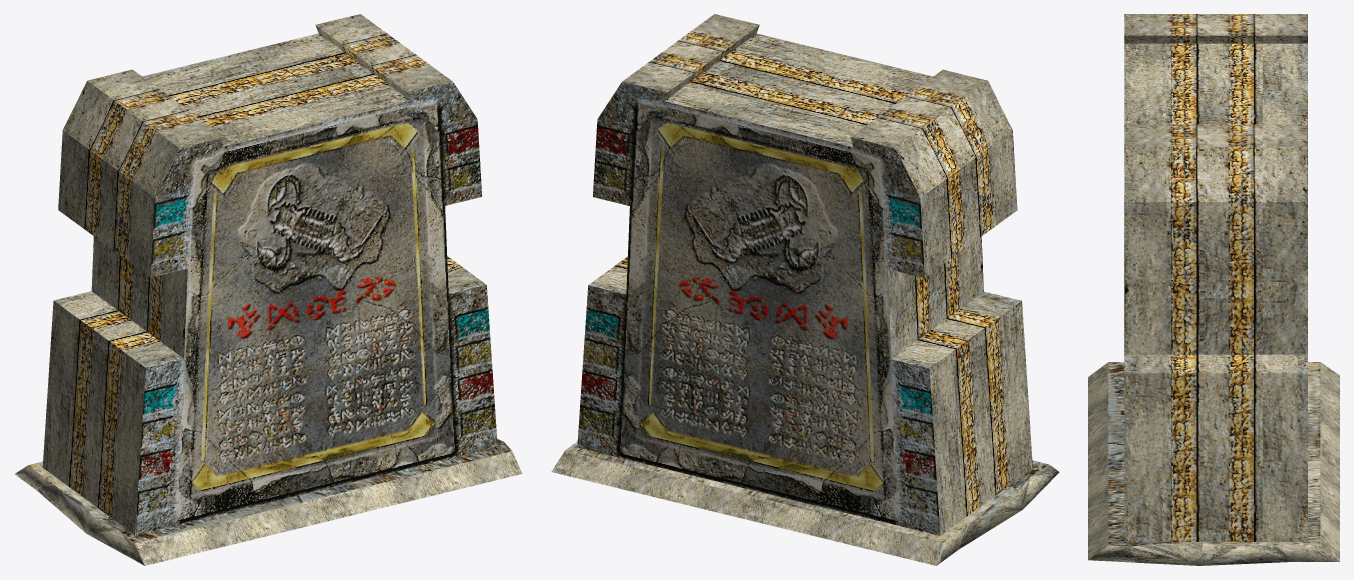
Rendered from Totem_Large_Center_Broken.fbx.
The picture shows the model from 3 angles, left to right: view 1: azimuth 30°, elevation 25°; view 2: azimuth 150°, elevation 25°; view 3: azimuth 270°, elevation 25°; orthographic projection.
Parts seen in each view (by area): view 1: object_3_cell.015_cell.007, object_3_cell.015_cell.012, object_3_cell.015_cell.001, object_3_cell.015_cell.006, object_3_cell.015_cell.009, object_3_cell.015_cell.003, object_3_cell.015_cell.004, object_3_cell.015_cell, object_3_cell.015_cell.002, object_3_cell.012_cell.006, object_3_cell.012_cell.007, object_3_cell.012_cell.002 (+5 smaller); view 2: object_3_cell.015_cell.006, object_3_cell.015_cell, object_3_cell.015_cell.007, object_3_cell.015_cell.009, object_3_cell.015_cell.003, object_3_cell.015_cell.010, object_3_cell.012_cell.003, object_3_cell.012_cell.005, object_3_cell.015_cell.001, object_3_cell.015_cell.012, object_3_cell.015_cell.002, object_3_cell.015_cell.004 (+3 smaller); view 3: object_3_cell.015_cell.012, object_3_cell.015_cell.004, object_3_cell.015_cell, object_3_cell.015_cell.003, object_3_cell.012_cell.005, object_3_cell.015_cell.001, object_3_cell.015_cell.009, object_3_cell.015_cell.013, object_3_cell.012_cell.006, object_3_cell.012_cell.003, object_3_cell.012_cell.007, object_3_cell.012_cell.002 (+3 smaller).
Part boxes in pixels (left/top/right/bottom): object_3_cell.015_cell.007: left=42, top=267, right=369, bottom=535; object_3_cell.015_cell.012: left=327, top=47, right=482, bottom=348; object_3_cell.015_cell.001: left=197, top=79, right=375, bottom=277; object_3_cell.015_cell.006: left=50, top=165, right=292, bottom=356; object_3_cell.015_cell.009: left=286, top=344, right=454, bottom=498; object_3_cell.015_cell.003: left=60, top=60, right=258, bottom=183; object_3_cell.015_cell.004: left=388, top=256, right=494, bottom=401; object_3_cell.015_cell: left=209, top=14, right=405, bottom=88; object_3_cell.015_cell.002: left=105, top=122, right=202, bottom=210; object_3_cell.012_cell.006: left=242, top=467, right=415, bottom=538; object_3_cell.012_cell.007: left=407, top=443, right=522, bottom=501; object_3_cell.012_cell.002: left=138, top=509, right=254, bottom=565; object_3_cell.015_cell.006: left=737, top=172, right=1017, bottom=425; object_3_cell.015_cell: left=593, top=48, right=786, bottom=306; object_3_cell.015_cell.007: left=769, top=237, right=1032, bottom=535; object_3_cell.015_cell.009: left=577, top=323, right=837, bottom=510; object_3_cell.015_cell.003: left=765, top=82, right=966, bottom=247; object_3_cell.015_cell.010: left=587, top=235, right=738, bottom=345; object_3_cell.012_cell.003: left=746, top=494, right=986, bottom=562; object_3_cell.012_cell.005: left=551, top=441, right=762, bottom=519; object_3_cell.015_cell.001: left=773, top=42, right=967, bottom=100; object_3_cell.015_cell.012: left=597, top=14, right=791, bottom=289; object_3_cell.015_cell.002: left=948, top=76, right=1005, bottom=185; object_3_cell.015_cell.004: left=583, top=256, right=627, bottom=364; object_3_cell.015_cell.012: left=1124, top=111, right=1307, bottom=371; object_3_cell.015_cell.004: left=1124, top=364, right=1307, bottom=494; object_3_cell.015_cell: left=1192, top=82, right=1307, bottom=290; object_3_cell.015_cell.003: left=1147, top=14, right=1307, bottom=90; object_3_cell.012_cell.005: left=1129, top=451, right=1339, bottom=565; object_3_cell.015_cell.001: left=1124, top=23, right=1244, bottom=117; object_3_cell.015_cell.009: left=1210, top=456, right=1307, bottom=541; object_3_cell.015_cell.013: left=1124, top=491, right=1233, bottom=541; object_3_cell.012_cell.006: left=1088, top=418, right=1124, bottom=504; object_3_cell.012_cell.003: left=1308, top=362, right=1339, bottom=466; object_3_cell.012_cell.007: left=1088, top=497, right=1135, bottom=562; object_3_cell.012_cell.002: left=1088, top=367, right=1124, bottom=430.
Bounding box in the file's own units: 574 × 536 × 314.
